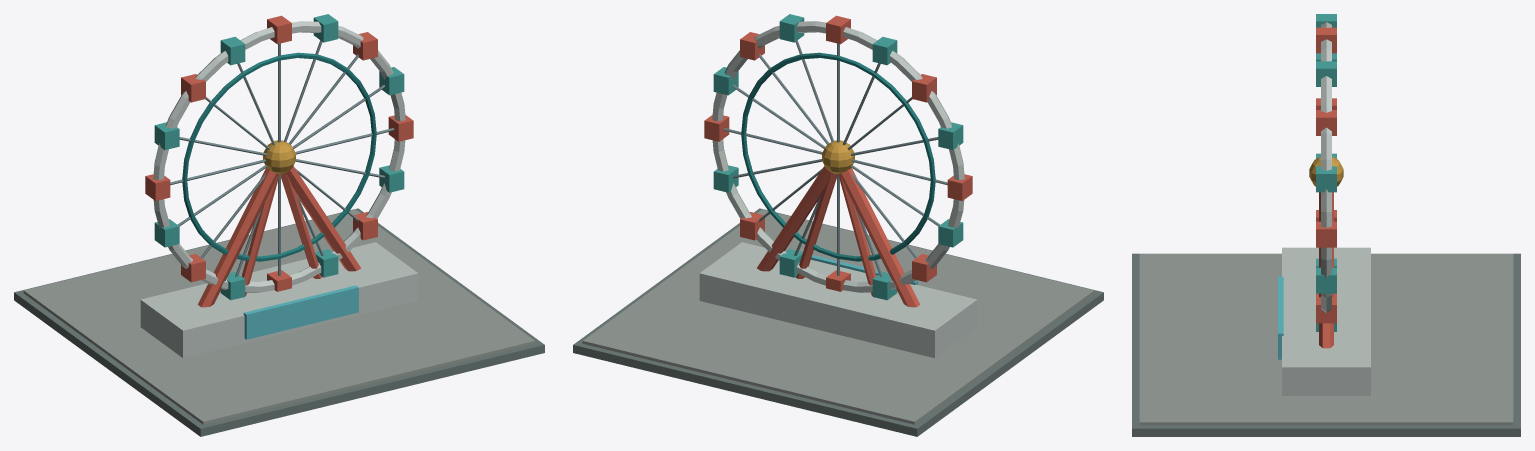
File: ferris_wheel_lv2.glb
3 views of the same model, side by side, from view 1: azimuth 30°, elevation 25°; view 2: azimuth 150°, elevation 25°; view 3: azimuth 270°, elevation 25° (orthographic). The views are drawn at different scales.
Visible parts, largest first — view 1: rough, metallic, glossy; view 2: rough, metallic; view 3: rough, glossy.
Part boxes in pixels (x1,y1,x2,y2): rough: (14, 14, 544, 436); metallic: (170, 40, 394, 276); glossy: (243, 285, 358, 339); rough: (573, 14, 1103, 436); metallic: (723, 40, 947, 276); rough: (1132, 14, 1520, 436); glossy: (1278, 276, 1283, 359).
Size of the model in its own units: 9.8 by 8.31 by 9.2.
